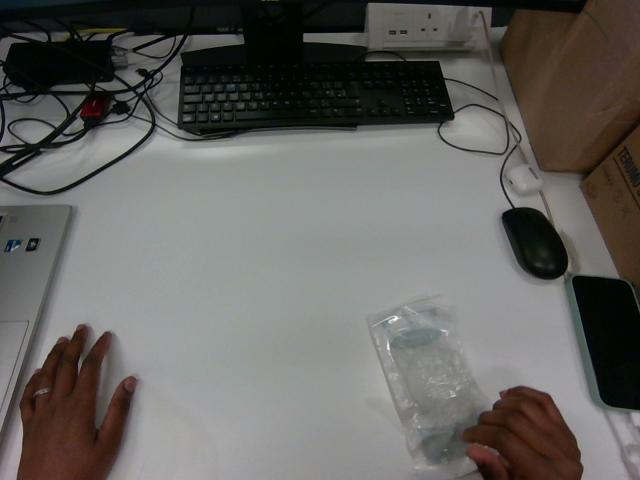gallipot: (367, 299, 487, 479)
